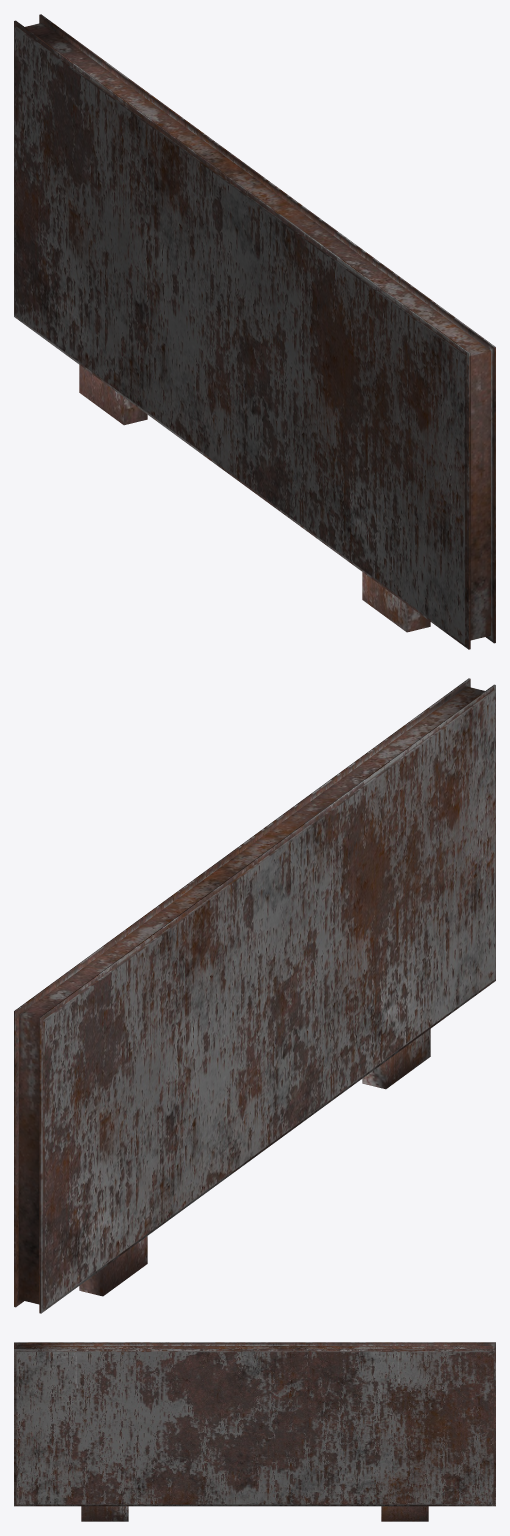
3 renders of one model, top to bottom at view 1: azimuth 30°, elevation 25°; view 2: azimuth 150°, elevation 25°; view 3: azimuth 270°, elevation 25°, orthographic. The views are drawn at different scales.
Visible parts, largest first — view 1: advertisementstand2; view 2: advertisementstand2; view 3: advertisementstand2.
Part boxes in pixels (x1=…): advertisementstand2: x1=14, y1=14, x2=495, y2=649; advertisementstand2: x1=14, y1=678, x2=495, y2=1313; advertisementstand2: x1=14, y1=1342, x2=495, y2=1521.
Size of the model in its own units: 1463 by 14753 by 37336.
